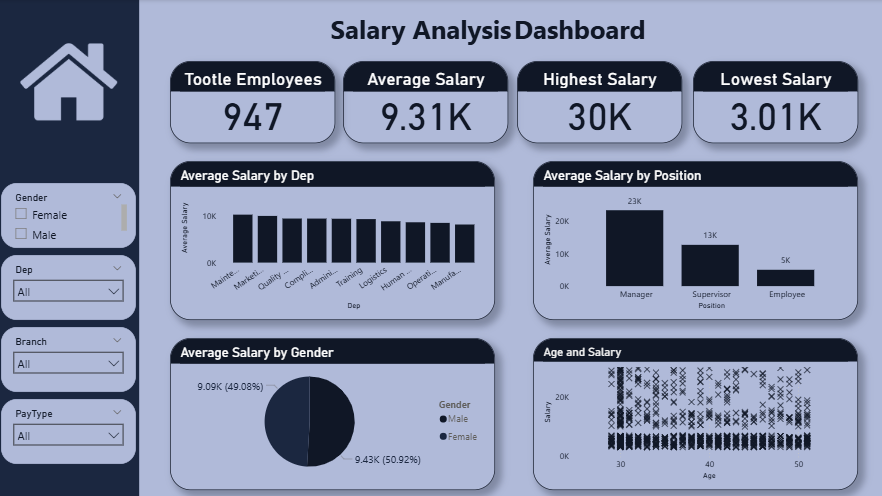

This screenshot's page, from the dashboard's own definition file:
{"tool":"powerbi","page":{"name":"Salary Analysis","canvas":[1303,720],"ordinal":2},"visuals":[{"type":"textbox","box":[397.6,13,644.8,63.6],"z":0},{"type":"slicer","fields":{"Values":["Employee Database.Gender"]},"box":[15.9,266,195.2,94],"z":1000},{"type":"slicer","fields":{"Values":["Employee Database.Dep"]},"box":[15.9,370.1,195.2,94],"z":2000},{"type":"slicer","fields":{"Values":["Employee Database.Branch"]},"box":[15.9,474.2,195.2,94],"z":3000},{"type":"image","box":[15.9,44.8,195.2,150.4],"z":4000},{"type":"card","title":"Tootle Employees","fields":{"Values":["'Measures'.Total Employees"]},"box":[260.2,89.6,238.6,118.6],"z":5000},{"type":"card","title":"Highest Salary","fields":{"Values":["'Measures'.Highest Salary"]},"box":[761.9,89.6,238.6,118.6],"z":6000},{"type":"card","title":"Average Salary","fields":{"Values":["'Measures'.Average Salary"]},"box":[510.4,89.6,238.6,118.6],"z":7000},{"type":"card","title":"Lowest Salary","fields":{"Values":["'Measures'.Lowest Salary"]},"box":[1016.4,89.6,238.6,118.6],"z":8000},{"type":"columnChart","fields":{"Y":["'Measures'.Average Salary"],"Category":["Employee Database.Dep"]},"box":[260.2,234.2,469.9,229.9],"z":9000},{"type":"columnChart","fields":{"Y":["'Measures'.Average Salary"],"Category":["Employee Database.Position"]},"box":[785.1,234.2,469.9,229.9],"z":10000},{"type":"pieChart","fields":{"Category":["Employee Database.Gender"],"Y":["'Measures'.Average Salary"]},"box":[260.2,490.1,469.9,219.8],"z":11000},{"type":"scatterChart","fields":{"X":["Employee Database.Age"],"Y":["Employee Database.Salary"]},"box":[785.1,490.1,469.9,219.8],"z":12000},{"type":"slicer","fields":{"Values":["Employee Database.PayType"]},"box":[15.9,578.3,195.2,94],"z":13000}]}

Visuals, with their boxes in screenshot pixels (x1, y1, x2, y2), scaled from the page's 1303x720 canvas onto the 882x496 screenshot:
textbox: bbox=(269, 9, 706, 53)
slicer - Employee Database.Gender: bbox=(11, 183, 143, 248)
slicer - Employee Database.Dep: bbox=(11, 255, 143, 320)
slicer - Employee Database.Branch: bbox=(11, 327, 143, 391)
image: bbox=(11, 31, 143, 134)
"Tootle Employees" card: bbox=(176, 62, 338, 143)
"Highest Salary" card: bbox=(516, 62, 677, 143)
"Average Salary" card: bbox=(345, 62, 507, 143)
"Lowest Salary" card: bbox=(688, 62, 850, 143)
columnChart - 'Measures'.Average Salary x Employee Database.Dep: bbox=(176, 161, 494, 320)
columnChart - 'Measures'.Average Salary x Employee Database.Position: bbox=(531, 161, 850, 320)
pieChart - Employee Database.Gender x 'Measures'.Average Salary: bbox=(176, 338, 494, 489)
scatterChart - Employee Database.Age x Employee Database.Salary: bbox=(531, 338, 850, 489)
slicer - Employee Database.PayType: bbox=(11, 398, 143, 463)
